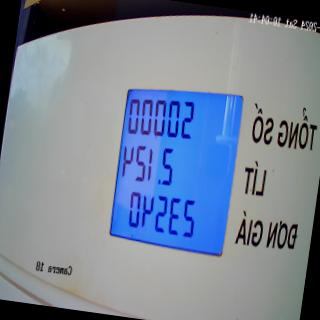screen: (104, 72, 248, 258)
